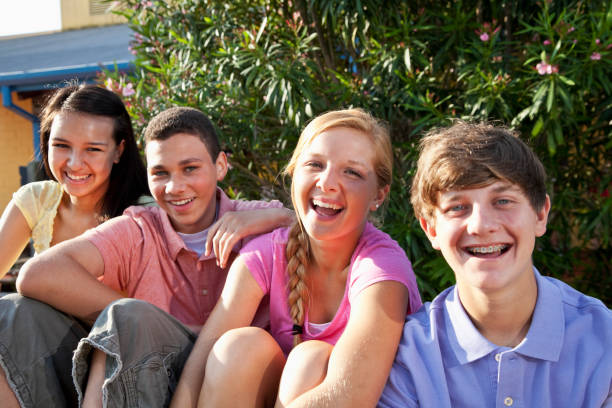face: (436, 182, 534, 290), (296, 144, 373, 243), (149, 145, 213, 224), (51, 117, 112, 195)
